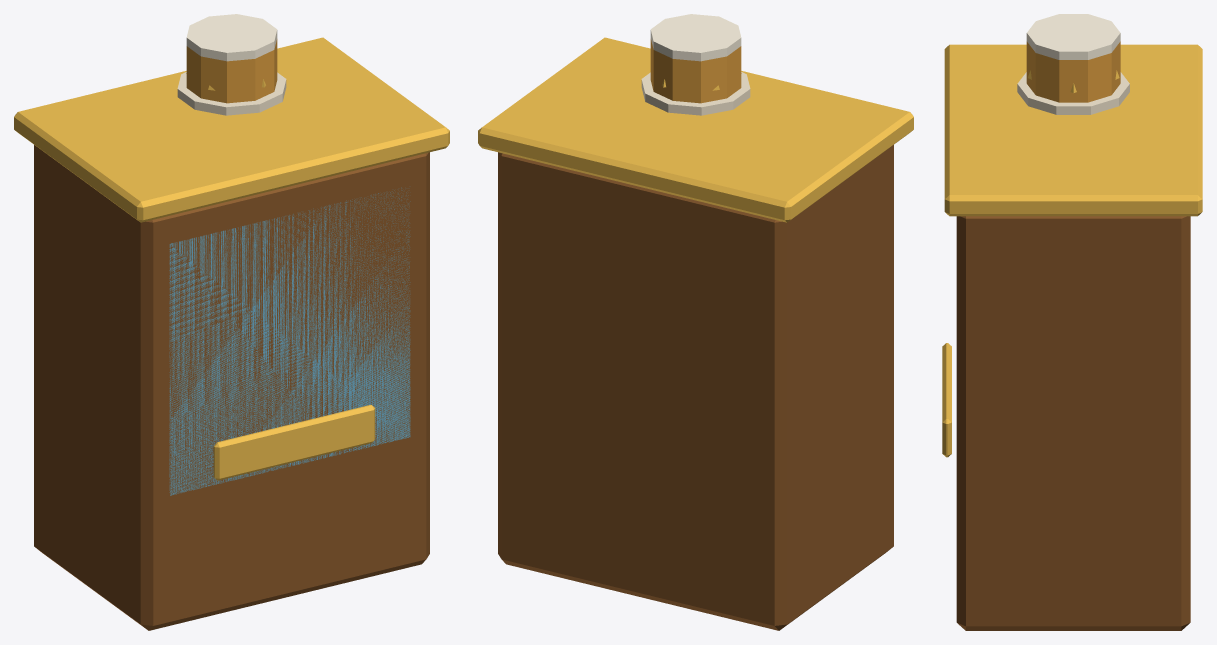
File: PR_Station_Tatli_T3.fbx
The picture shows the model from 3 angles, left to right: view 1: azimuth 30°, elevation 25°; view 2: azimuth 150°, elevation 25°; view 3: azimuth 270°, elevation 25°; orthographic projection.
Parts seen in each view (by area): view 1: PR_Station_Tatli_T3; view 2: PR_Station_Tatli_T3; view 3: PR_Station_Tatli_T3.
Boxes of the visible parts, left/top/right/bottom form: PR_Station_Tatli_T3: left=14, top=14, right=449, bottom=630; PR_Station_Tatli_T3: left=478, top=14, right=913, bottom=630; PR_Station_Tatli_T3: left=942, top=14, right=1202, bottom=630.
Size of the model in its own units: 0.78 by 1.25 by 0.555.
1 material, 1 textured.
